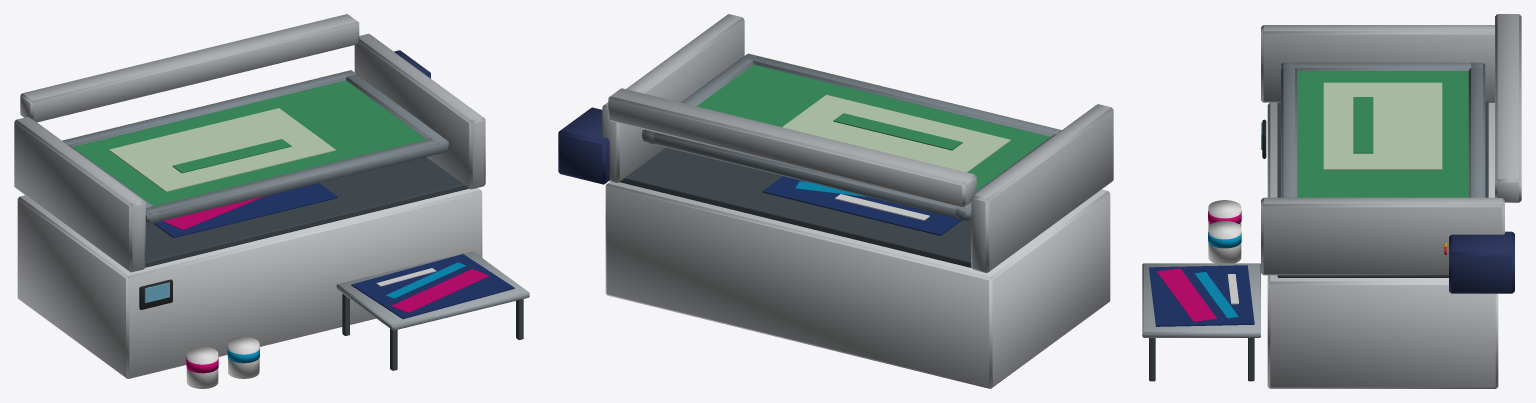
Rendered from m_screenpress.glb.
The picture shows the model from 3 angles, left to right: view 1: azimuth 30°, elevation 25°; view 2: azimuth 150°, elevation 25°; view 3: azimuth 270°, elevation 25°; orthographic projection. The views are drawn at different scales.
Visible parts, largest first — view 1: m_screenpress; view 2: m_screenpress; view 3: m_screenpress.
Part boxes in pixels (x1,y1,x2,y2): m_screenpress: (14,14,529,388); m_screenpress: (558,14,1113,388); m_screenpress: (1142,14,1521,388).
Size of the model in its own units: 1.43 by 0.68 by 1.15.
